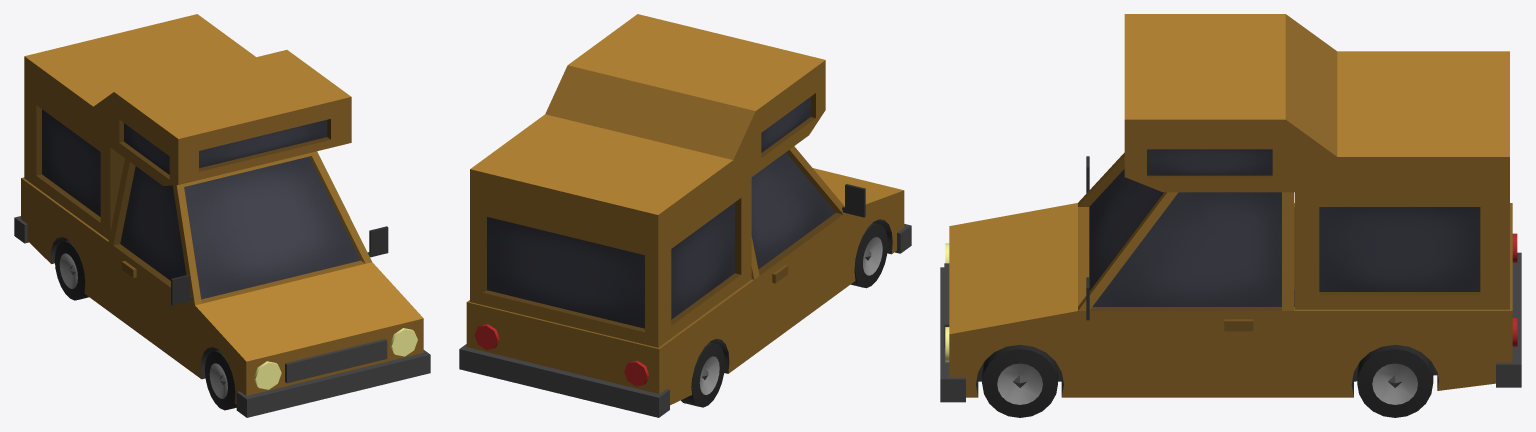
Rendered from Ban_A1.fbx.
3 renders of one model, left to right at view 1: azimuth 30°, elevation 25°; view 2: azimuth 150°, elevation 25°; view 3: azimuth 270°, elevation 25°, orthographic. The views are drawn at different scales.
Parts seen in each view (by area): view 1: Ban_Body, Ban_RF, Ban_RR; view 2: Ban_Body, Ban_RR, Ban_RF; view 3: Ban_Body, Ban_LR, Ban_LF.
Part boxes in pixels (bbox=[...]): Ban_Body: bbox=[14, 14, 430, 417]; Ban_RF: bbox=[204, 350, 236, 410]; Ban_RR: bbox=[54, 240, 88, 300]; Ban_Body: bbox=[459, 14, 911, 417]; Ban_RR: bbox=[681, 342, 724, 407]; Ban_RF: bbox=[851, 222, 887, 288]; Ban_Body: bbox=[940, 14, 1521, 402]; Ban_LR: bbox=[1357, 344, 1433, 417]; Ban_LF: bbox=[982, 345, 1057, 417].
Size of the model in its own units: 207 by 219 by 387.
1 material, 1 textured.
